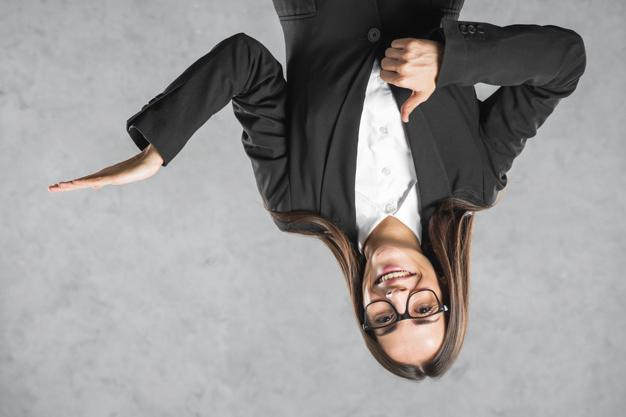thumbsdown: (380, 38, 425, 123)
